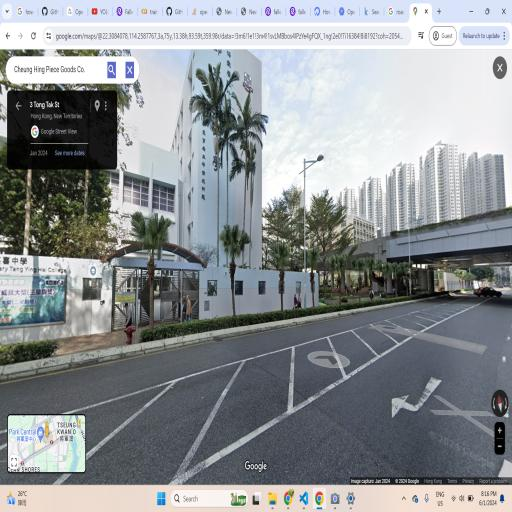Roads: (111, 300, 503, 458)
Trees: (129, 208, 176, 335), (260, 219, 298, 323), (218, 216, 250, 314)
